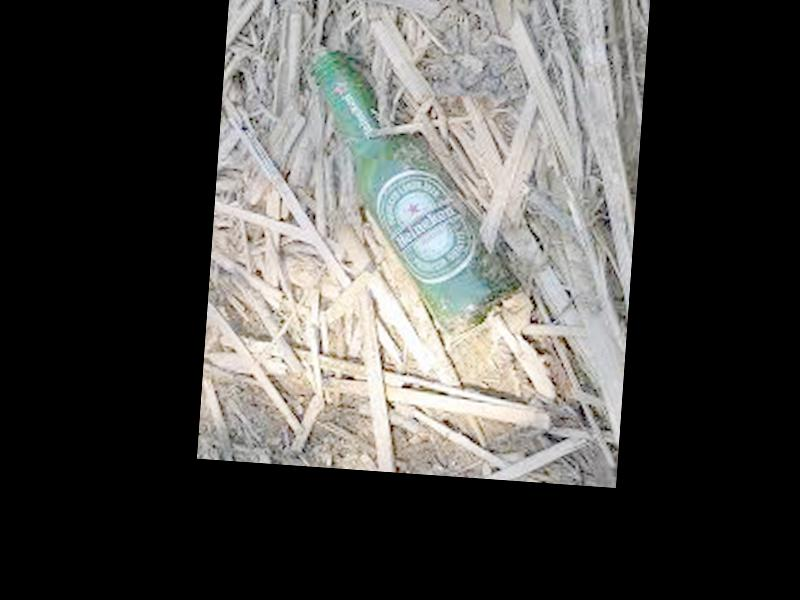Beer: (295, 46, 533, 337)
